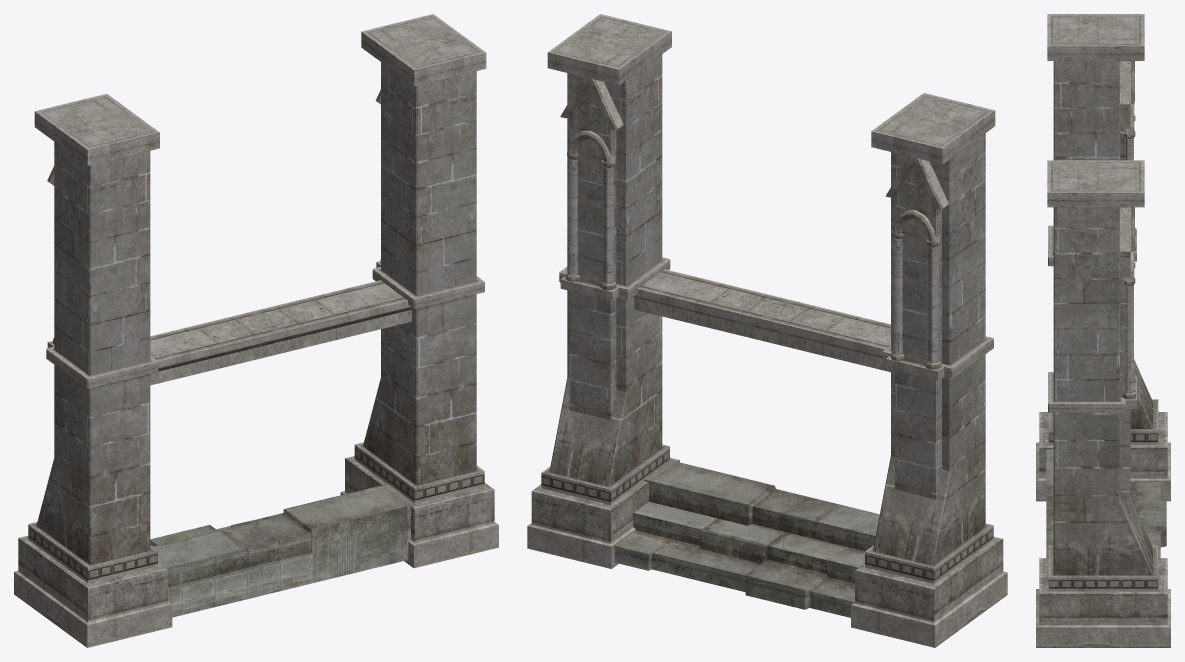
The model's file is bg_lut_lucastle_churchunderprop01_sm_msj.FBX.
3 renders of one model, left to right at view 1: azimuth 30°, elevation 25°; view 2: azimuth 150°, elevation 25°; view 3: azimuth 270°, elevation 25°, orthographic. The views are drawn at different scales.
Visible parts, largest first — view 1: bg_lut_lucastle_churchunderprop01_sm_msj; view 2: bg_lut_lucastle_churchunderprop01_sm_msj; view 3: bg_lut_lucastle_churchunderprop01_sm_msj.
Boxes of the visible parts, left/top/right/bottom form: bg_lut_lucastle_churchunderprop01_sm_msj: left=14, top=14, right=498, bottom=647; bg_lut_lucastle_churchunderprop01_sm_msj: left=527, top=14, right=1007, bottom=647; bg_lut_lucastle_churchunderprop01_sm_msj: left=1036, top=14, right=1170, bottom=647.
Size of the model in its own units: 425 by 486 by 131.
